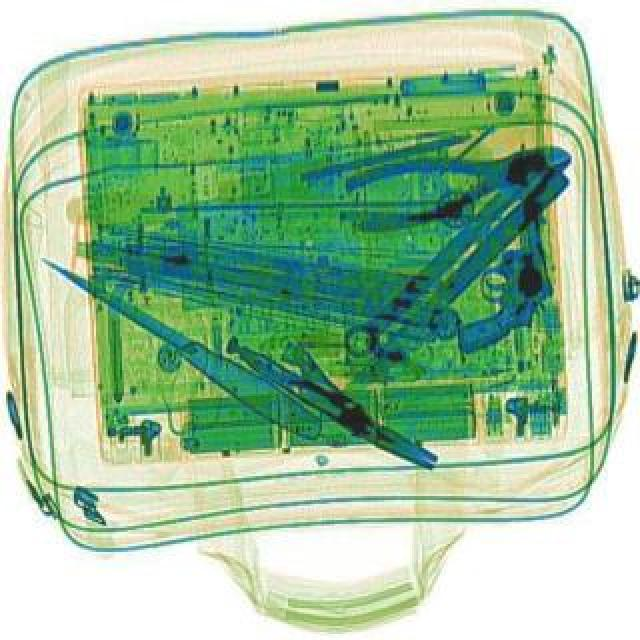gun: (444, 172, 556, 352)
knife: (318, 164, 570, 414), (30, 246, 326, 440)
wrench: (342, 126, 578, 236)
